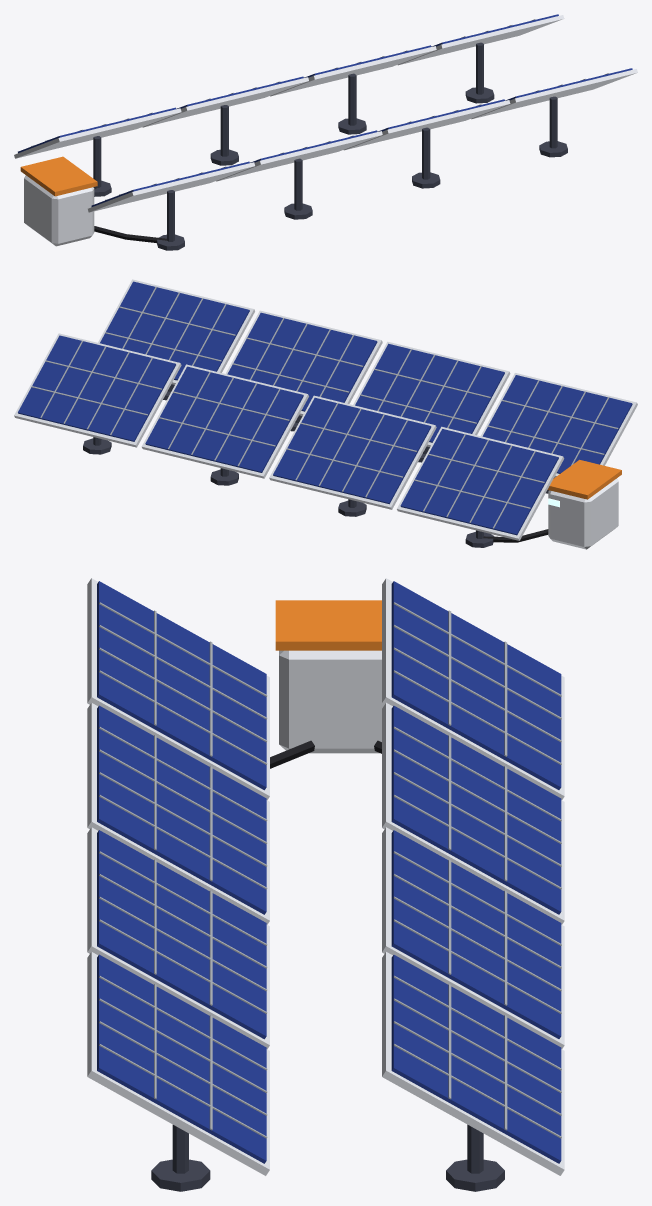
The model's file is SolarArray.fbx.
3 renders of one model, top to bottom at view 1: azimuth 30°, elevation 25°; view 2: azimuth 150°, elevation 25°; view 3: azimuth 270°, elevation 25°, orthographic. The views are drawn at different scales.
Parts seen in each view (by area): view 1: SolarArray_MoonWhite, SolarArray_MoonDark, SolarArray_Solar, SolarArray_Orange, SolarArray_Black; view 2: SolarArray_Solar, SolarArray_MoonWhite, SolarArray_Metal, SolarArray_MoonDark, SolarArray_Orange; view 3: SolarArray_Solar, SolarArray_MoonWhite, SolarArray_Metal, SolarArray_Orange, SolarArray_MoonDark.
Part boxes in pixels (x1,y1,x2,y2): SolarArray_MoonWhite: [14, 15, 637, 246]; SolarArray_MoonDark: [93, 42, 567, 250]; SolarArray_Solar: [18, 14, 632, 206]; SolarArray_Orange: [20, 156, 97, 196]; SolarArray_Black: [93, 187, 166, 242]; SolarArray_Solar: [18, 281, 632, 535]; SolarArray_MoonWhite: [14, 279, 637, 549]; SolarArray_Metal: [31, 286, 618, 528]; SolarArray_MoonDark: [83, 384, 554, 547]; SolarArray_Orange: [547, 459, 621, 499]; SolarArray_Solar: [97, 581, 561, 1163]; SolarArray_MoonWhite: [87, 578, 564, 1175]; SolarArray_Metal: [99, 602, 561, 1138]; SolarArray_Orange: [275, 600, 381, 650]; SolarArray_MoonDark: [151, 1124, 504, 1191].
Size of the model in its own units: 37.8 by 5.7 by 14.59.
